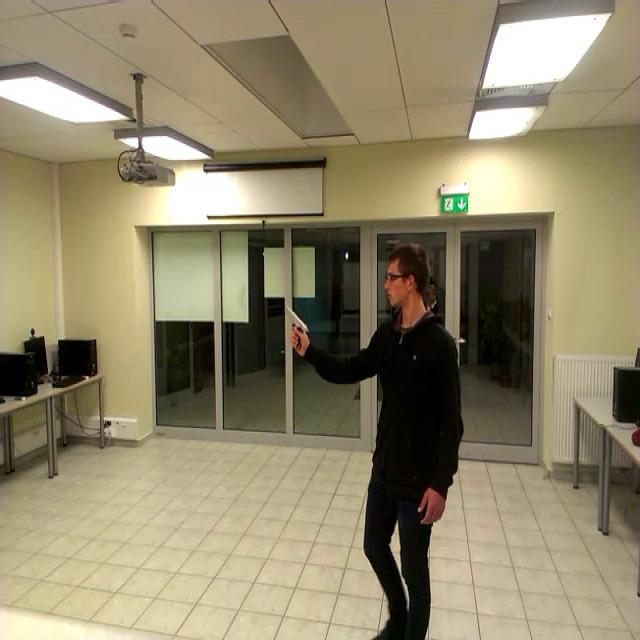handgun: (272, 300, 316, 365)
